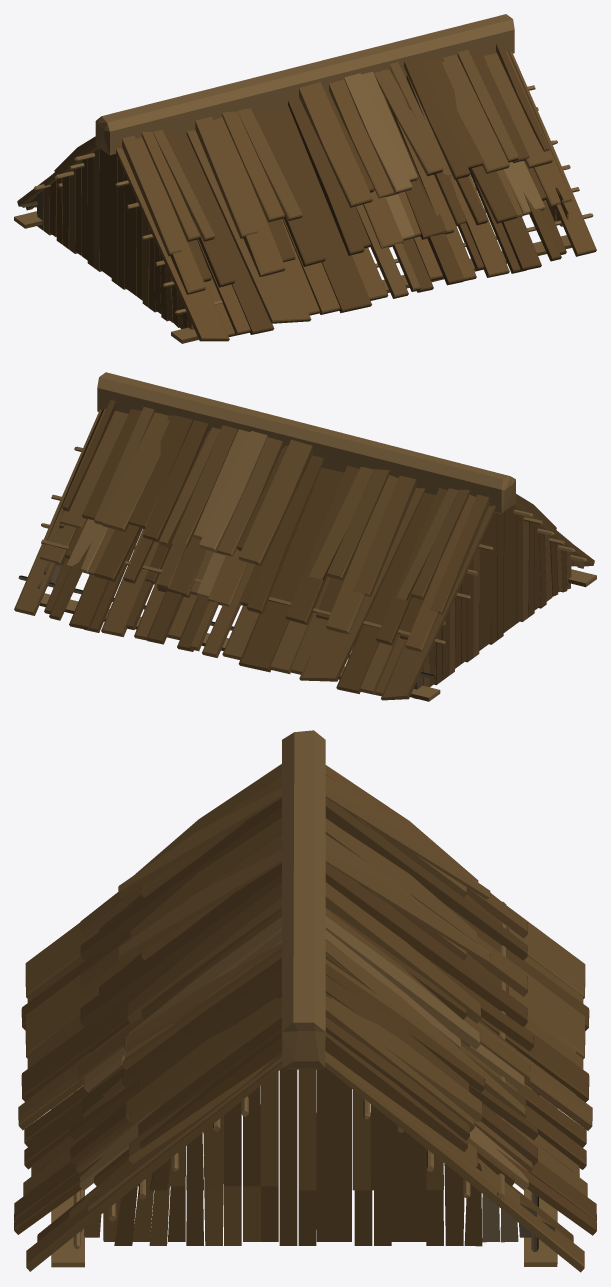
Rendered from EA03_Town_Ill_Roof_01b.fbx.
3 views of the same model, one above another, from view 1: azimuth 30°, elevation 25°; view 2: azimuth 150°, elevation 25°; view 3: azimuth 270°, elevation 25° (orthographic). The views are drawn at different scales.
Visible parts, largest first — view 1: EA03_Town_Ill_Roof_01b_LOD0; view 2: EA03_Town_Ill_Roof_01b_LOD0; view 3: EA03_Town_Ill_Roof_01b_LOD0.
Boxes of the visible parts, bbox=[...] form: EA03_Town_Ill_Roof_01b_LOD0: bbox=[14, 14, 596, 343]; EA03_Town_Ill_Roof_01b_LOD0: bbox=[14, 372, 596, 701]; EA03_Town_Ill_Roof_01b_LOD0: bbox=[14, 730, 596, 1272].
Size of what is drawn, in the model's own units: 12.43 by 4.88 by 9.89.
